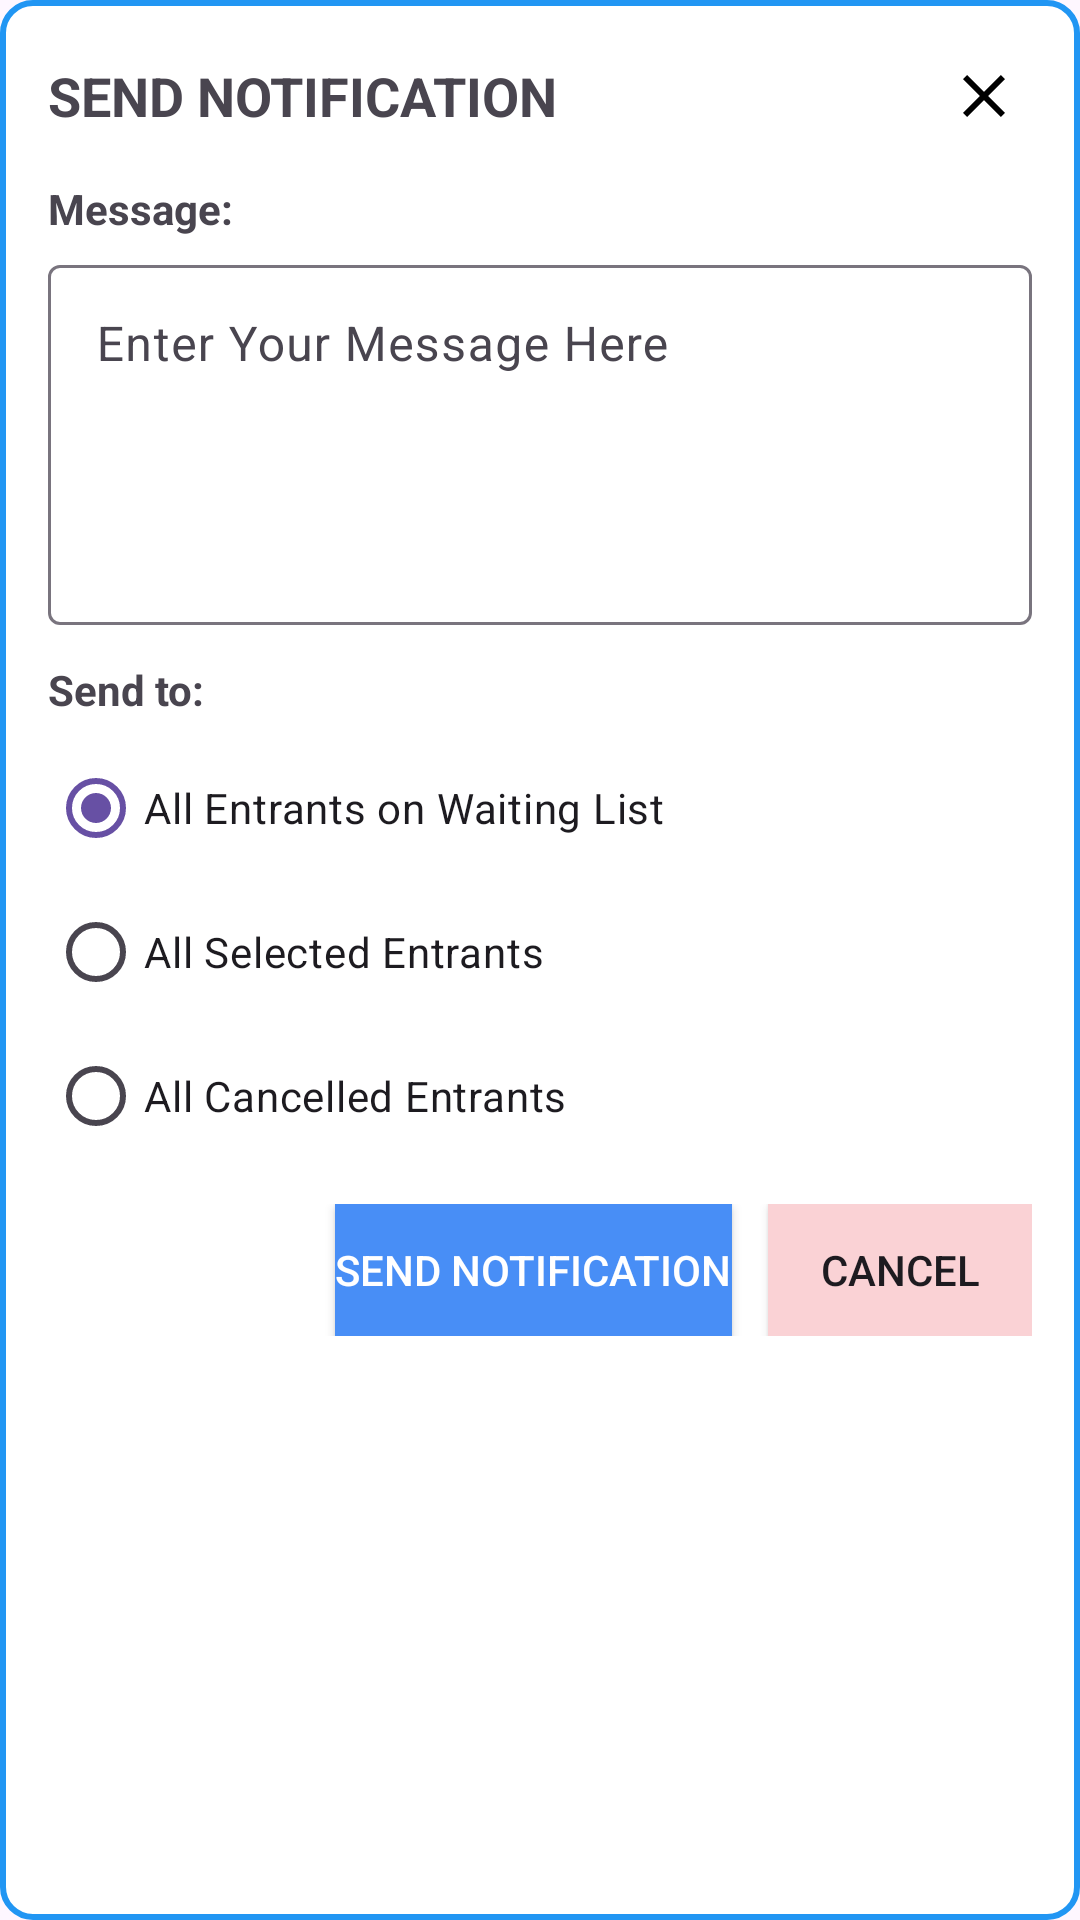

Icon bounding boxes for this 1080x1920 phone screenshot, format {"x1": x1, "y1": y1, "x2": x2, "y2": y2}:
Close Modal: {"x1": 963, "y1": 75, "x2": 1005, "y2": 117}
